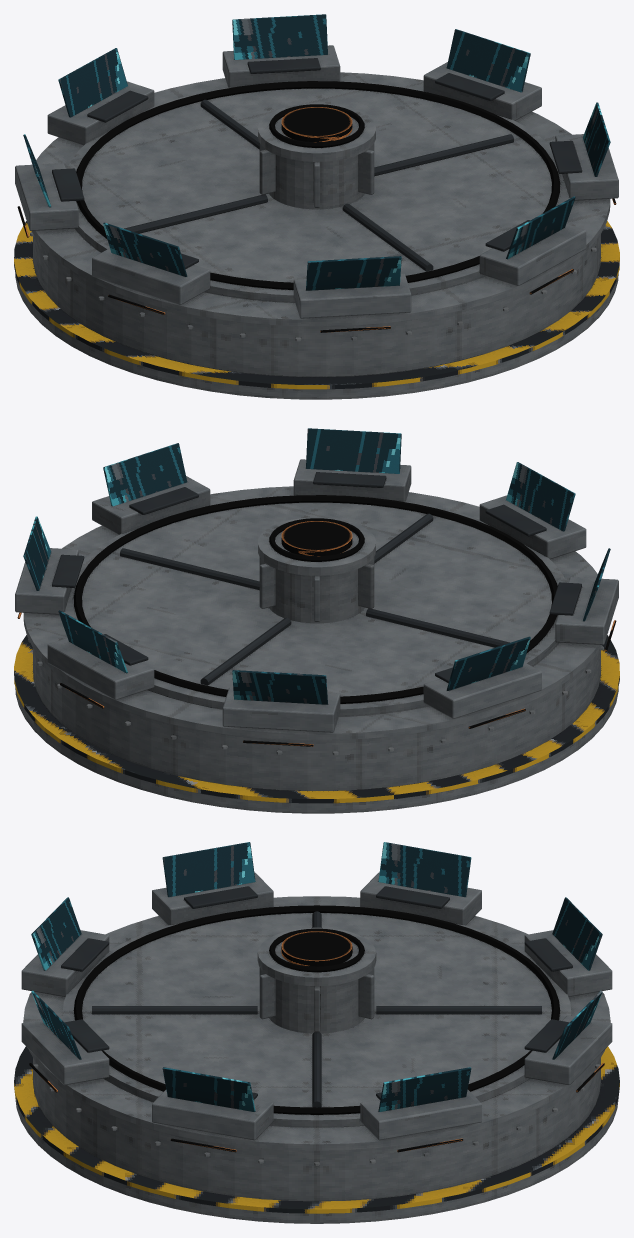
File: base_research_holo.glb
3 renders of one model, top to bottom at view 1: azimuth 30°, elevation 25°; view 2: azimuth 150°, elevation 25°; view 3: azimuth 270°, elevation 25°, orthographic.
Visible parts, largest first — view 1: base_research_holo.006; view 2: base_research_holo.006; view 3: base_research_holo.006.
Boxes of the visible parts, x1,y1,x2,y2 form: base_research_holo.006: (14, 14, 619, 399); base_research_holo.006: (14, 428, 619, 813); base_research_holo.006: (14, 842, 619, 1223).
Bounding box in the file's own units: 5.12 × 1.4 × 5.12.
5 materials, 5 textured.
